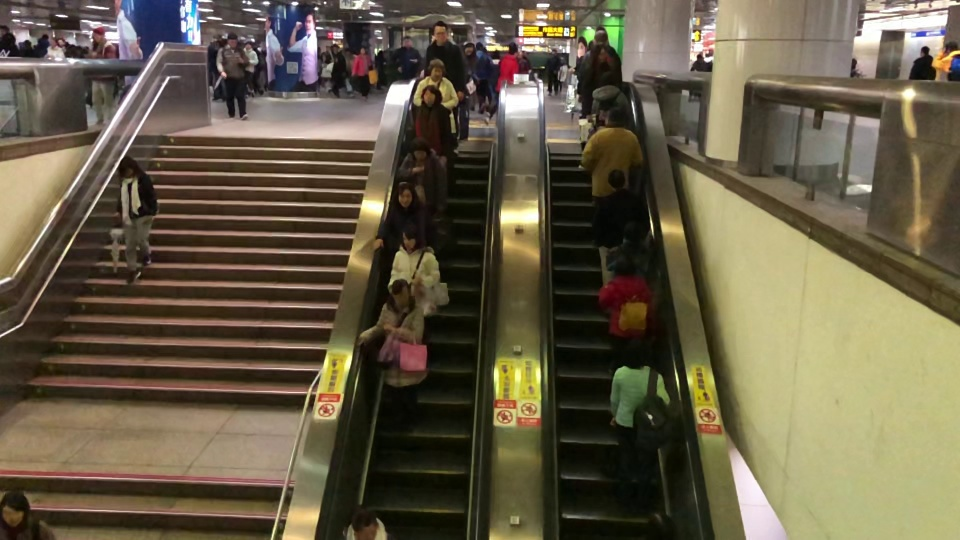person_head: (1, 490, 32, 526), (648, 511, 676, 540), (353, 507, 378, 539), (623, 339, 646, 368), (394, 181, 417, 207), (612, 254, 636, 278), (400, 224, 421, 251), (391, 278, 410, 306), (118, 155, 139, 178), (421, 84, 442, 106), (410, 137, 430, 160), (622, 222, 644, 241), (428, 58, 446, 81), (607, 107, 626, 127), (608, 169, 627, 189), (432, 20, 448, 41), (599, 70, 615, 85), (592, 47, 606, 62), (594, 30, 608, 44), (945, 38, 959, 52), (92, 27, 105, 40), (226, 32, 238, 46), (402, 35, 414, 47), (464, 42, 475, 55), (919, 45, 931, 56), (0, 24, 10, 37), (508, 46, 518, 56), (851, 57, 858, 69), (50, 37, 57, 47), (695, 54, 703, 62), (245, 40, 251, 50), (359, 46, 365, 53), (706, 51, 710, 57)
person_vbox: (357, 277, 432, 434), (608, 340, 670, 517), (597, 253, 656, 371), (591, 168, 647, 291), (111, 154, 159, 286), (580, 106, 644, 201), (425, 20, 468, 157), (386, 224, 442, 320), (368, 180, 430, 258), (579, 46, 613, 174), (399, 138, 449, 219), (413, 58, 460, 136), (411, 84, 452, 168), (84, 27, 118, 125), (215, 32, 250, 121), (483, 45, 519, 126), (605, 222, 656, 276), (0, 490, 55, 540), (590, 69, 632, 129), (580, 29, 623, 73), (342, 507, 394, 540), (388, 35, 421, 80), (931, 38, 960, 83), (351, 45, 372, 99), (907, 46, 936, 80), (244, 40, 259, 97), (0, 24, 18, 58), (45, 37, 64, 59), (850, 56, 864, 78), (692, 54, 706, 72), (704, 51, 712, 71)
